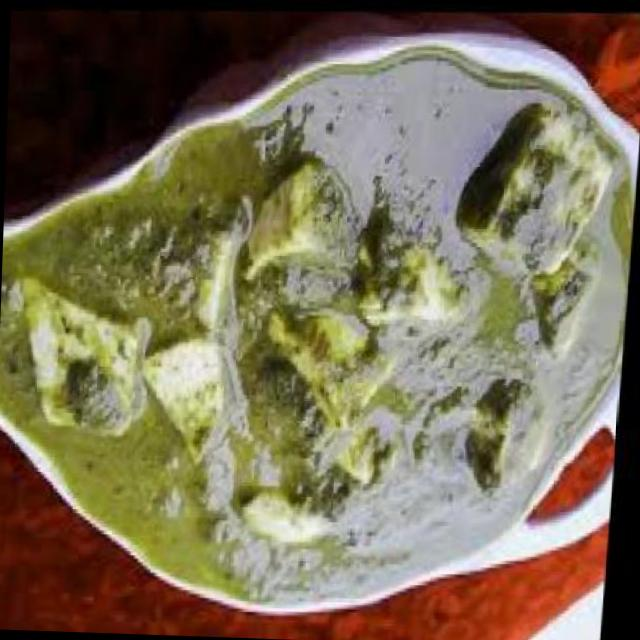palak_paneer: (0, 23, 640, 622)
